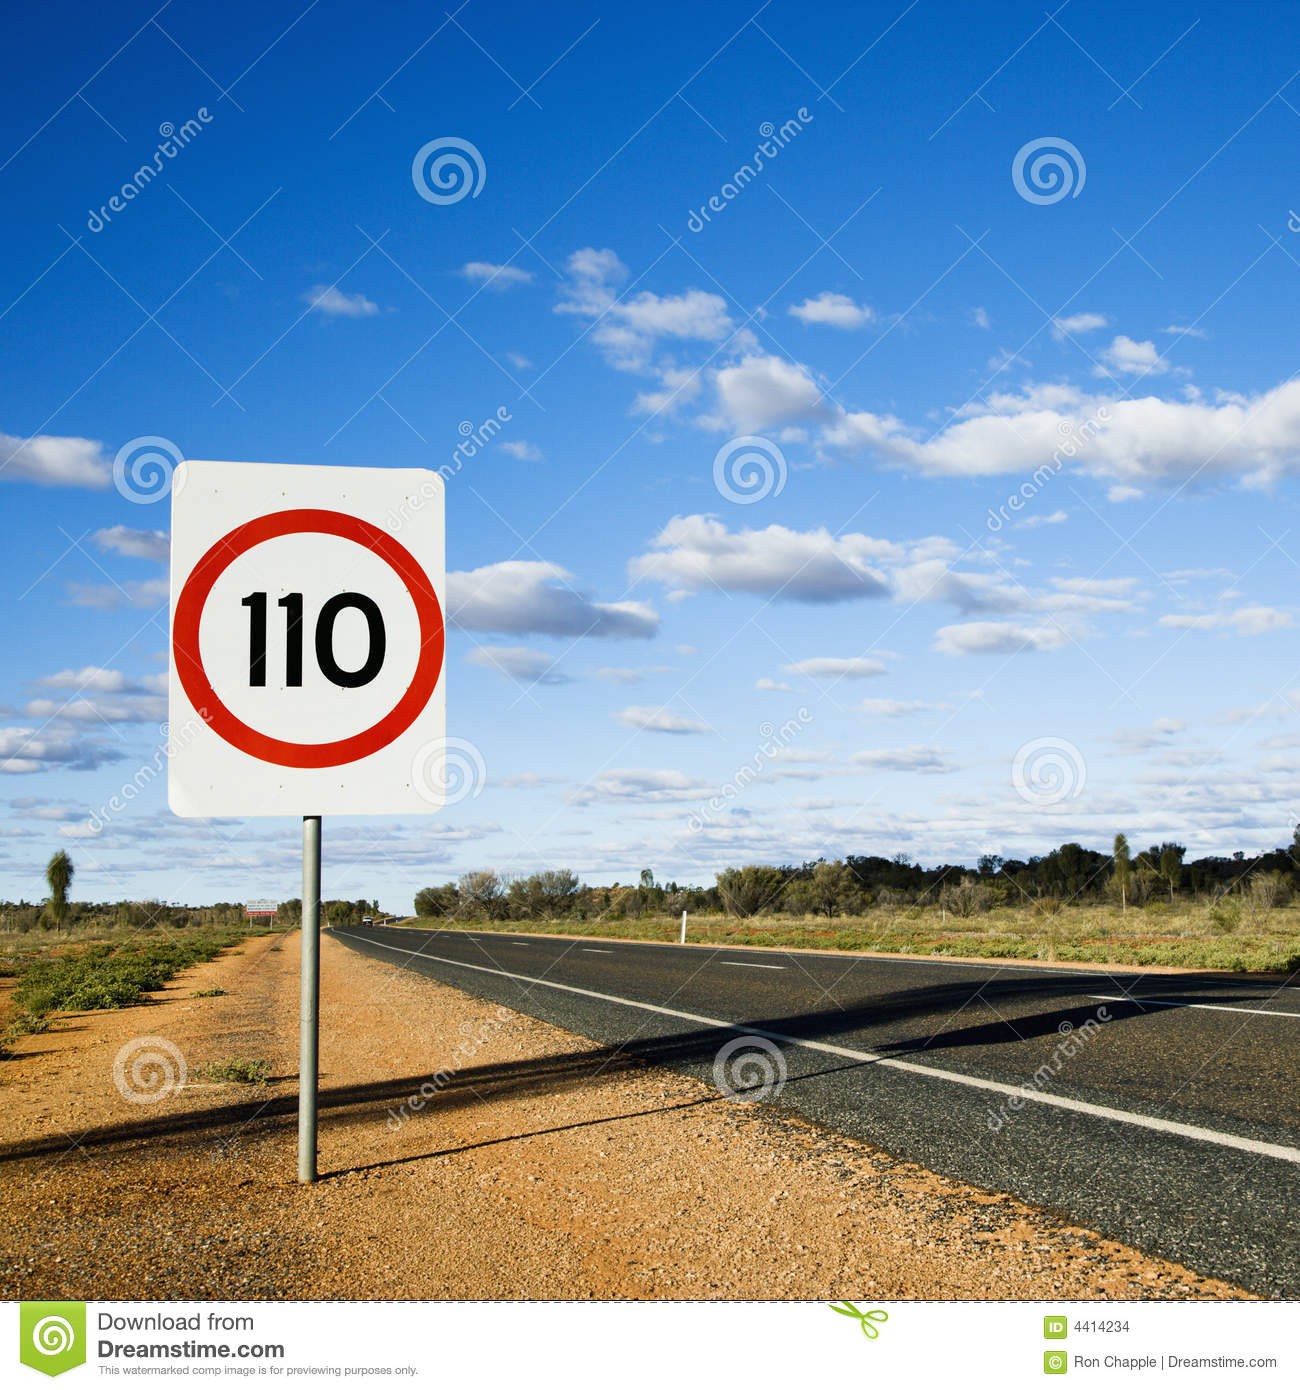Speed_limit_110km: (172, 509, 447, 768)
